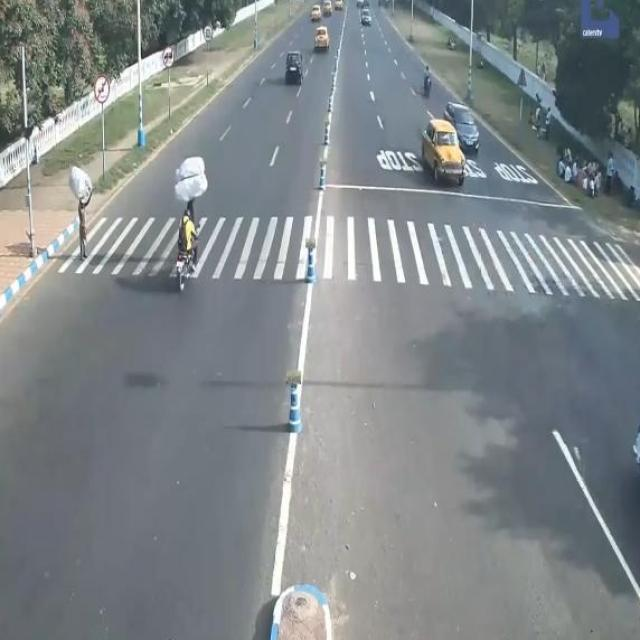accident: (176, 200, 204, 288)
